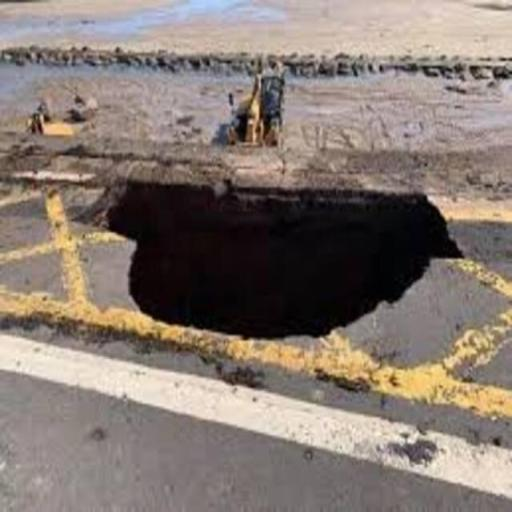Concentric_Crack: (106, 182, 462, 336)
